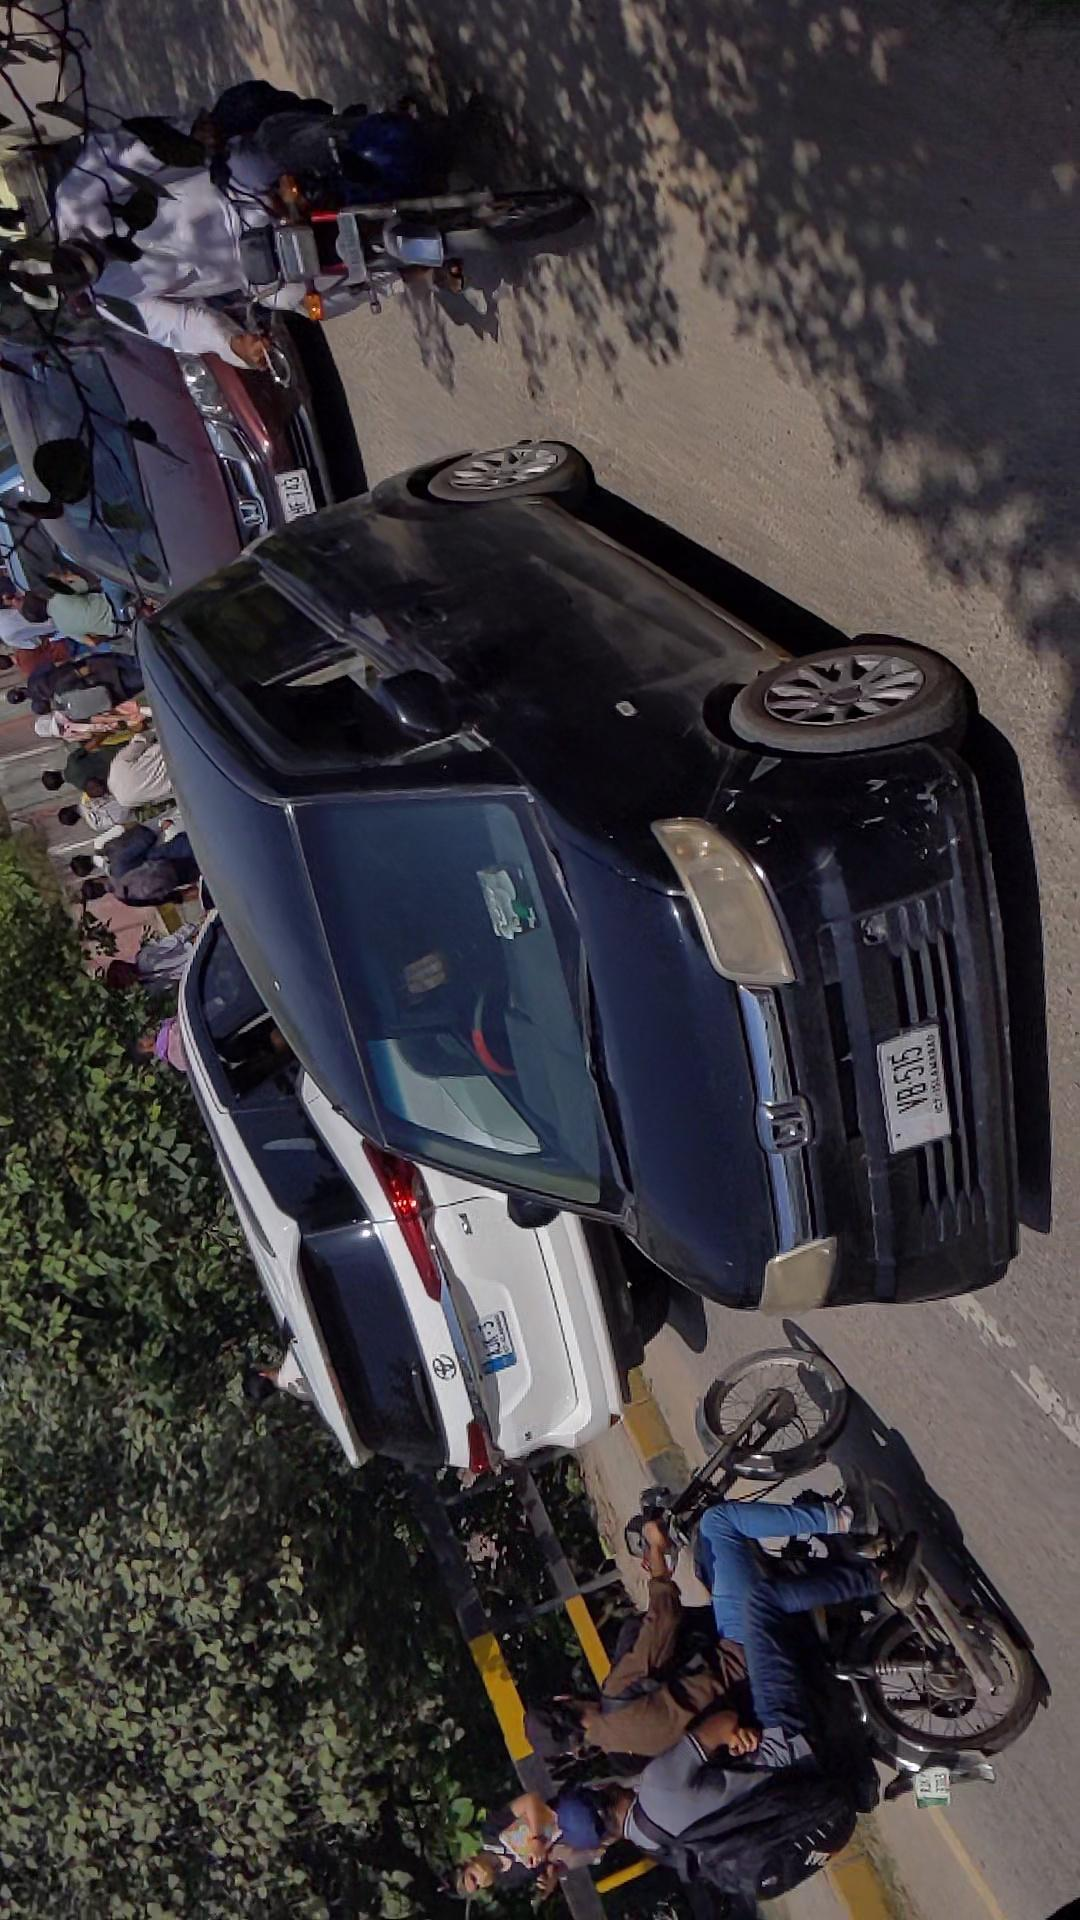windshield: (392, 509, 642, 1108)
